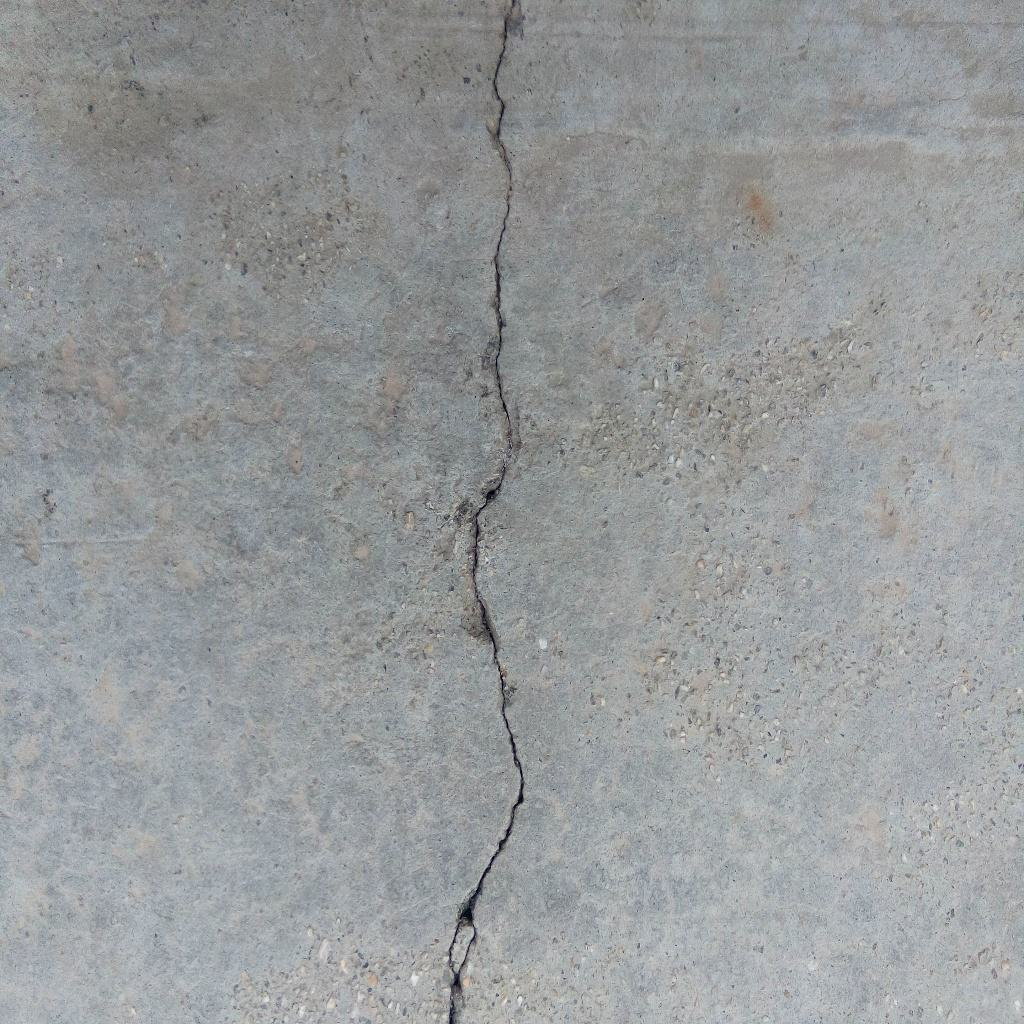Crack: (445, 1, 525, 1024)
